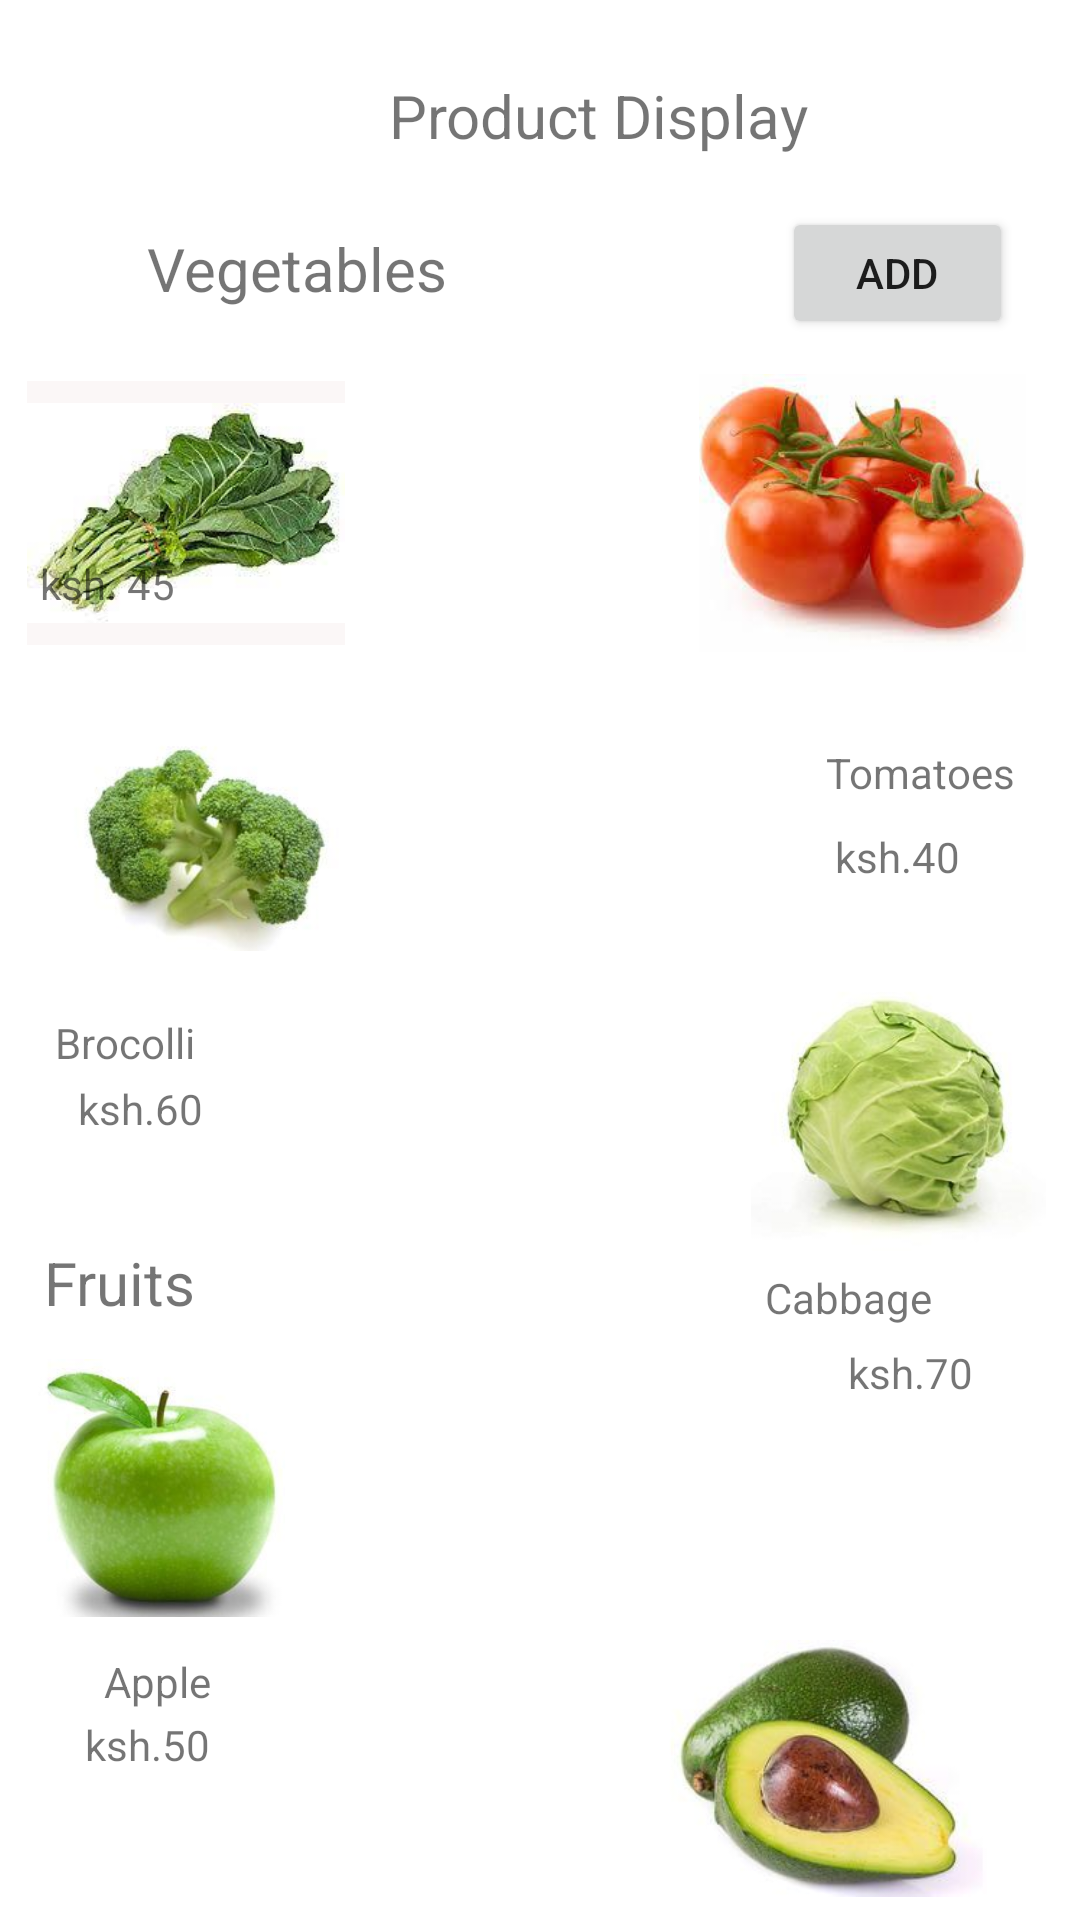

Named icons in this screenshot (1080*1920) and their centers, point (x, y):
avoccado: point (819, 1772)
sukuma: point (183, 512)
